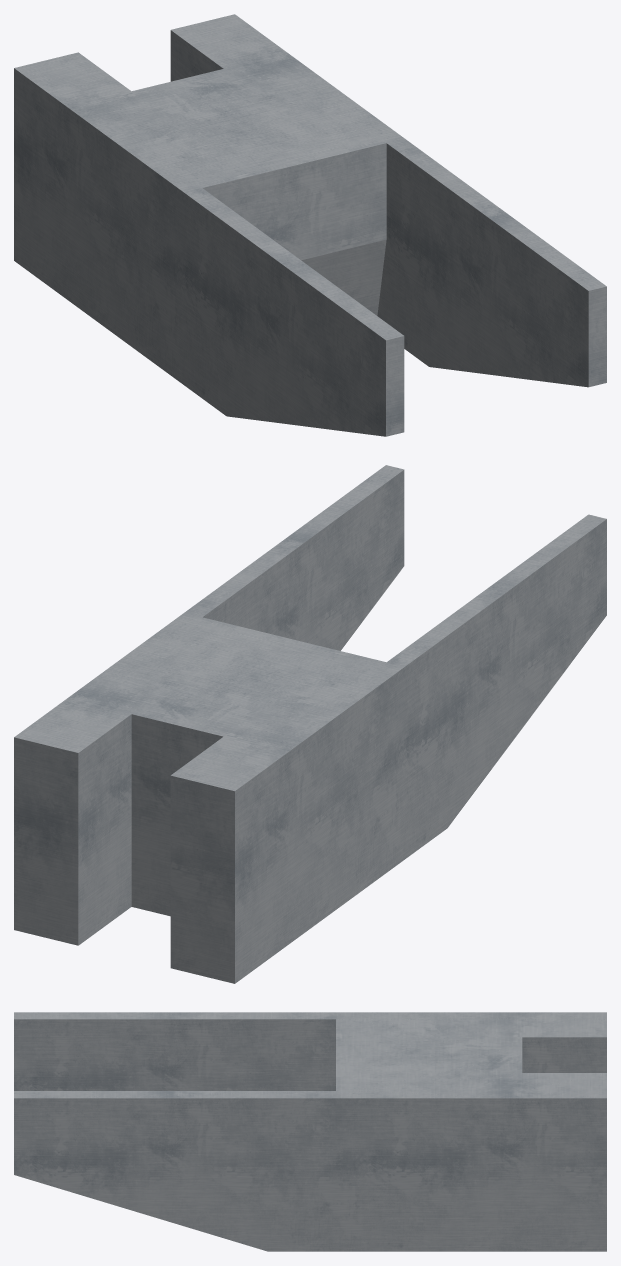
Rendered from Superconductor-Stand-1.obj.
3 renders of one model, top to bottom at view 1: azimuth 30°, elevation 25°; view 2: azimuth 150°, elevation 25°; view 3: azimuth 270°, elevation 25°, orthographic. The views are drawn at different scales.
Visible parts, largest first — view 1: Superconductor-Stand-1; view 2: Superconductor-Stand-1; view 3: Superconductor-Stand-1.
Boxes of the visible parts, <box> form: Superconductor-Stand-1: <box>14,14,606,436</box>; Superconductor-Stand-1: <box>14,465,606,983</box>; Superconductor-Stand-1: <box>14,1012,606,1251</box>.
Size of the model in its own units: 0.6 by 0.5 by 1.75.
